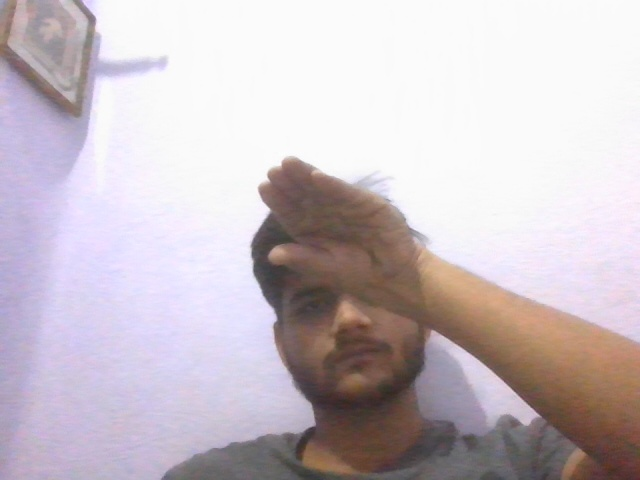sorry: (241, 150, 435, 326)
